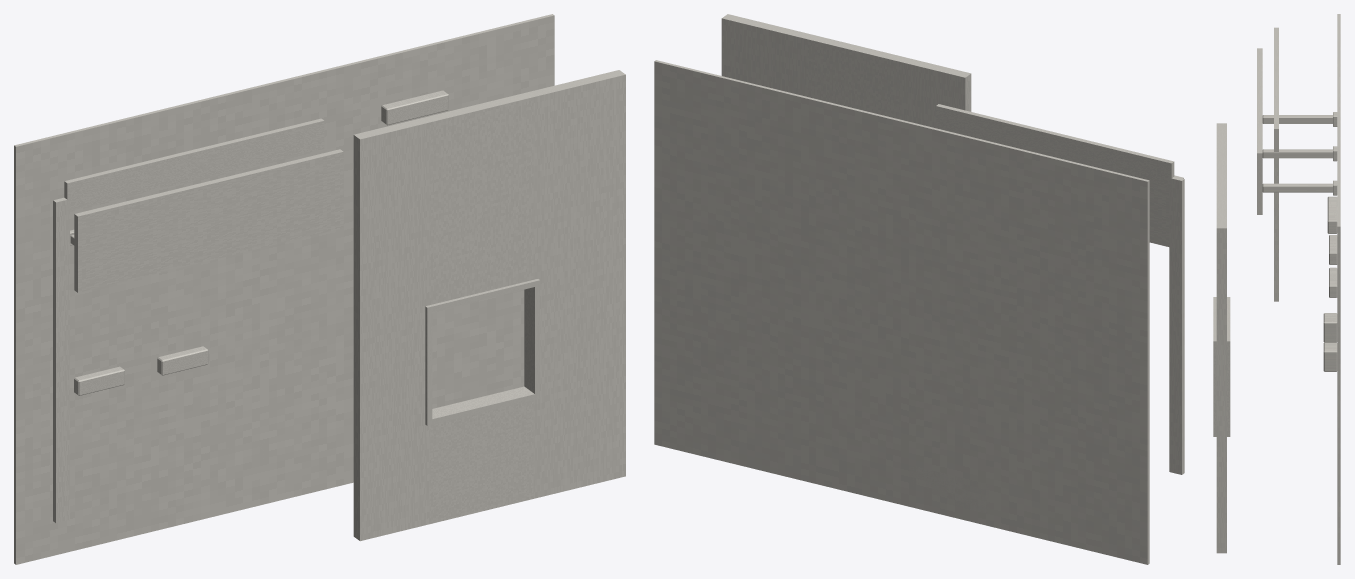
Rendered from equivalent.glb.
3 views of the same model, side by side, from view 1: azimuth 30°, elevation 25°; view 2: azimuth 150°, elevation 25°; view 3: azimuth 270°, elevation 25° (orthographic). The views are drawn at different scales.
Bounding box in the file's own units: 31 × 23 × 7.85.
1 material, 1 textured.
